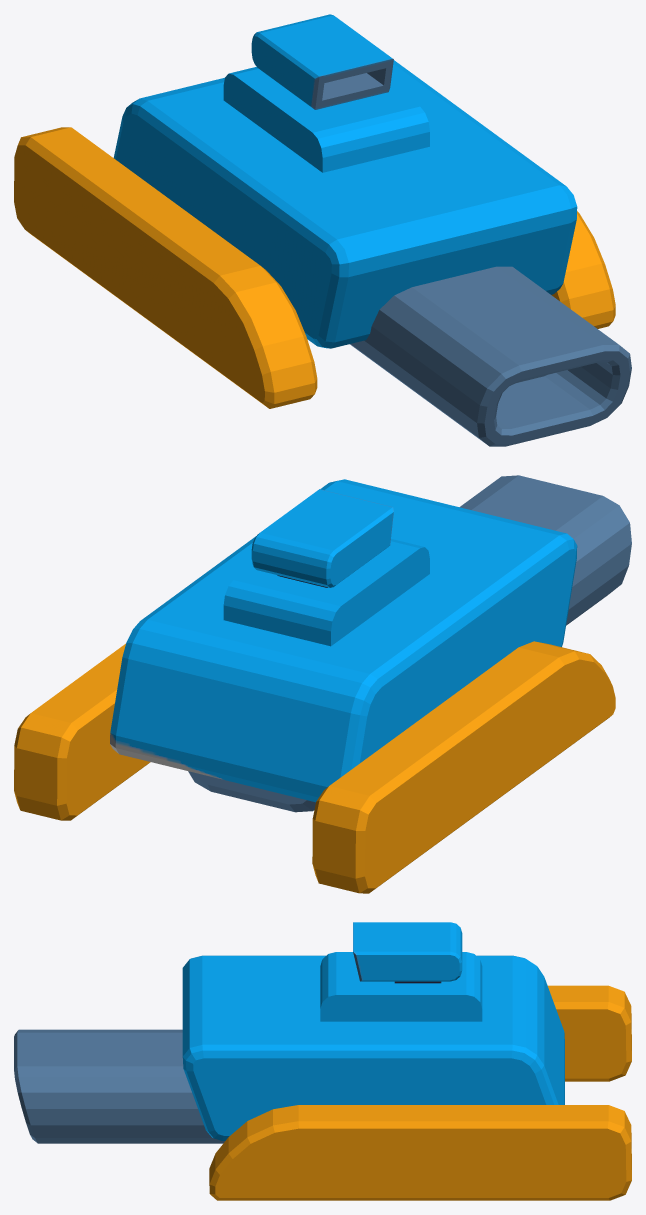
The model's file is tank2 head.fbx.
3 renders of one model, top to bottom at view 1: azimuth 30°, elevation 25°; view 2: azimuth 150°, elevation 25°; view 3: azimuth 270°, elevation 25°, orthographic. The views are drawn at different scales.
Visible parts, largest first — view 1: head tank 2; view 2: head tank 2; view 3: head tank 2.
Part boxes in pixels (x1=…): head tank 2: x1=14, y1=14, x2=631, y2=446; head tank 2: x1=14, y1=475, x2=631, y2=893; head tank 2: x1=14, y1=922, x2=631, y2=1200.
Size of the model in its own units: 85.03 by 55.44 by 158.
